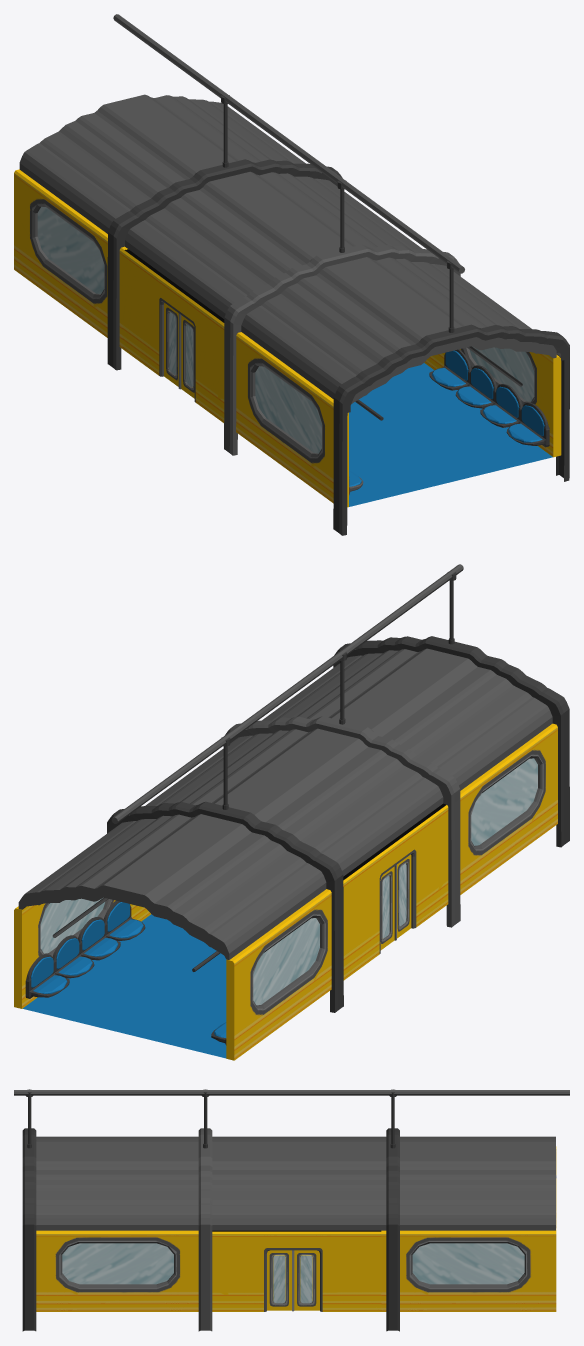
File: Vagao.fbx
3 renders of one model, top to bottom at view 1: azimuth 30°, elevation 25°; view 2: azimuth 150°, elevation 25°; view 3: azimuth 270°, elevation 25°, orthographic. The views are drawn at different scales.
Visible parts, largest first — view 1: Teto, Plane.002, Vagao_Porta.002, Vagao_Janela.006, Vagao_Janela.004, Divisória.001, Divisória, Cylinder.005, Janela_P.006, Janela_P.007, Vagao_Janela.001, Janela_P.002 (+4 smaller); view 2: Teto, Plane.002, Vagao_Porta.002, Vagao_Janela.004, Vagao_Janela.006, Divisória, Divisória.001, Cylinder.005, Janela_P.006, Janela_P.007, Vagao_Janela.005, Janela_P.005 (+4 smaller); view 3: Teto, Vagao_Porta, Vagao_Janela.001, Vagao_Janela.005, Janela_P.005, Janela_P.002, Cylinder.005, Divisória.001, Divisória, Porta_E.002, Porta_E, Janela_E (+1 smaller).
Part boxes in pixels (x1,y1,x2,y2): Teto: (19, 94, 556, 455); Plane.002: (349, 363, 552, 506); Vagao_Porta.002: (122, 249, 224, 422); Vagao_Janela.006: (236, 332, 348, 507); Vagao_Janela.004: (14, 169, 127, 348); Divisória.001: (333, 324, 569, 535); Divisória: (107, 159, 342, 370); Cylinder.005: (113, 14, 464, 273); Janela_P.006: (37, 206, 104, 293); Janela_P.007: (255, 366, 321, 453); Vagao_Janela.001: (444, 347, 561, 457); Janela_P.002: (470, 346, 534, 401); Teto: (18, 648, 552, 959); Plane.002: (22, 914, 226, 1058); Vagao_Porta.002: (343, 803, 448, 980); Vagao_Janela.004: (226, 889, 331, 1060); Vagao_Janela.006: (460, 723, 557, 894); Divisória: (107, 801, 343, 1012); Divisória.001: (333, 636, 569, 847); Cylinder.005: (112, 564, 463, 823); Janela_P.006: (253, 918, 319, 1005); Janela_P.007: (471, 758, 537, 845); Vagao_Janela.005: (14, 899, 131, 1008); Janela_P.005: (40, 897, 104, 953); Teto: (36, 1128, 555, 1331); Vagao_Porta: (212, 1230, 381, 1311); Vagao_Janela.001: (36, 1230, 198, 1311); Vagao_Janela.005: (381, 1229, 556, 1311); Janela_P.005: (412, 1243, 524, 1284); Janela_P.002: (62, 1243, 173, 1284); Cylinder.005: (14, 1090, 569, 1095); Divisória.001: (22, 1128, 36, 1331); Divisória: (386, 1128, 399, 1331); Porta_E.002: (293, 1250, 319, 1311); Porta_E: (267, 1250, 292, 1311); Janela_E: (273, 1255, 285, 1303).
Size of the model in its own units: 728 by 740 by 1888.
